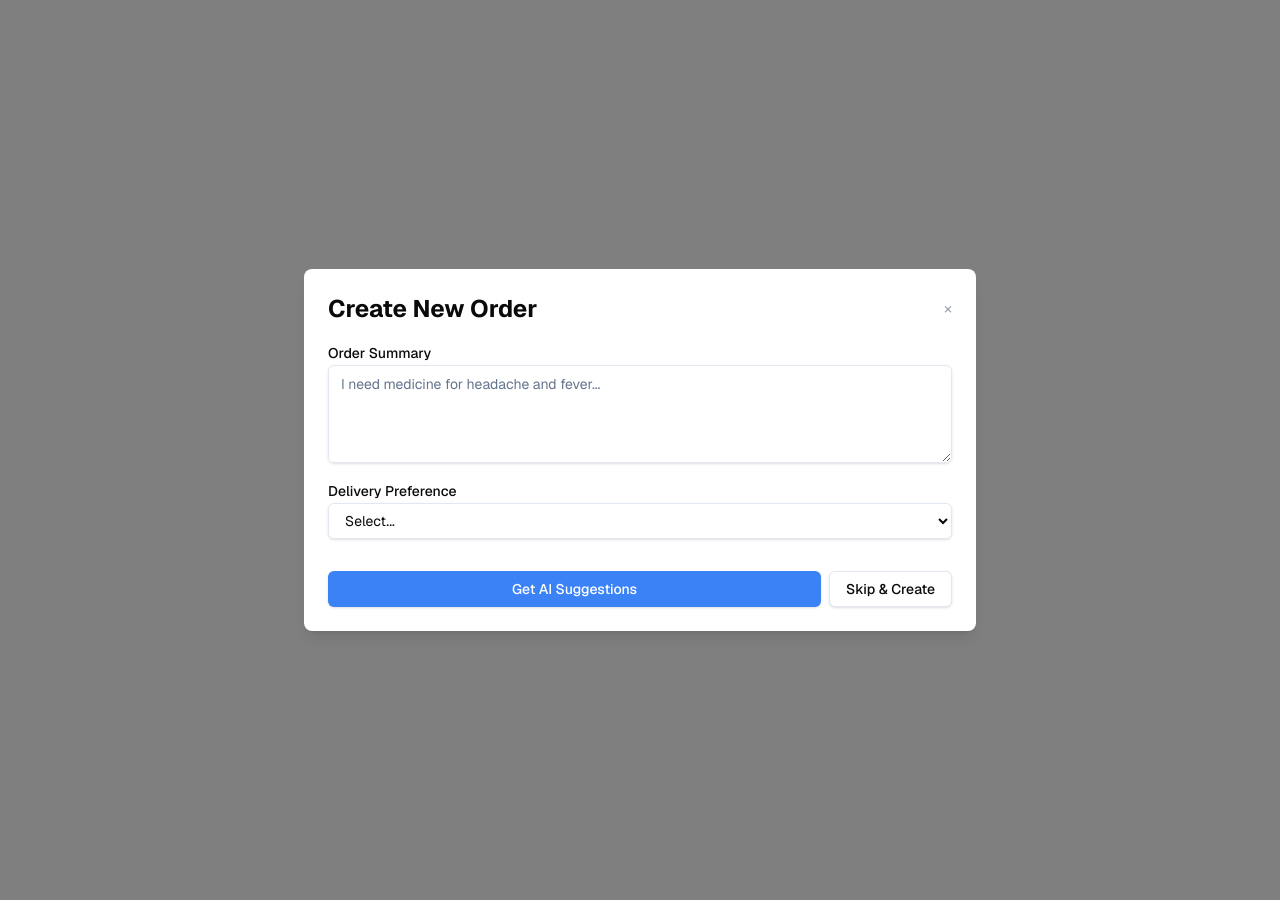
Test case: Summary Consistency - CreateOrderDialog › should accept valid summary with 10+ characters
In the text box labelled "Order Summary": (640, 414) [328,365,952,463], type "I need medicine for headache and fever"
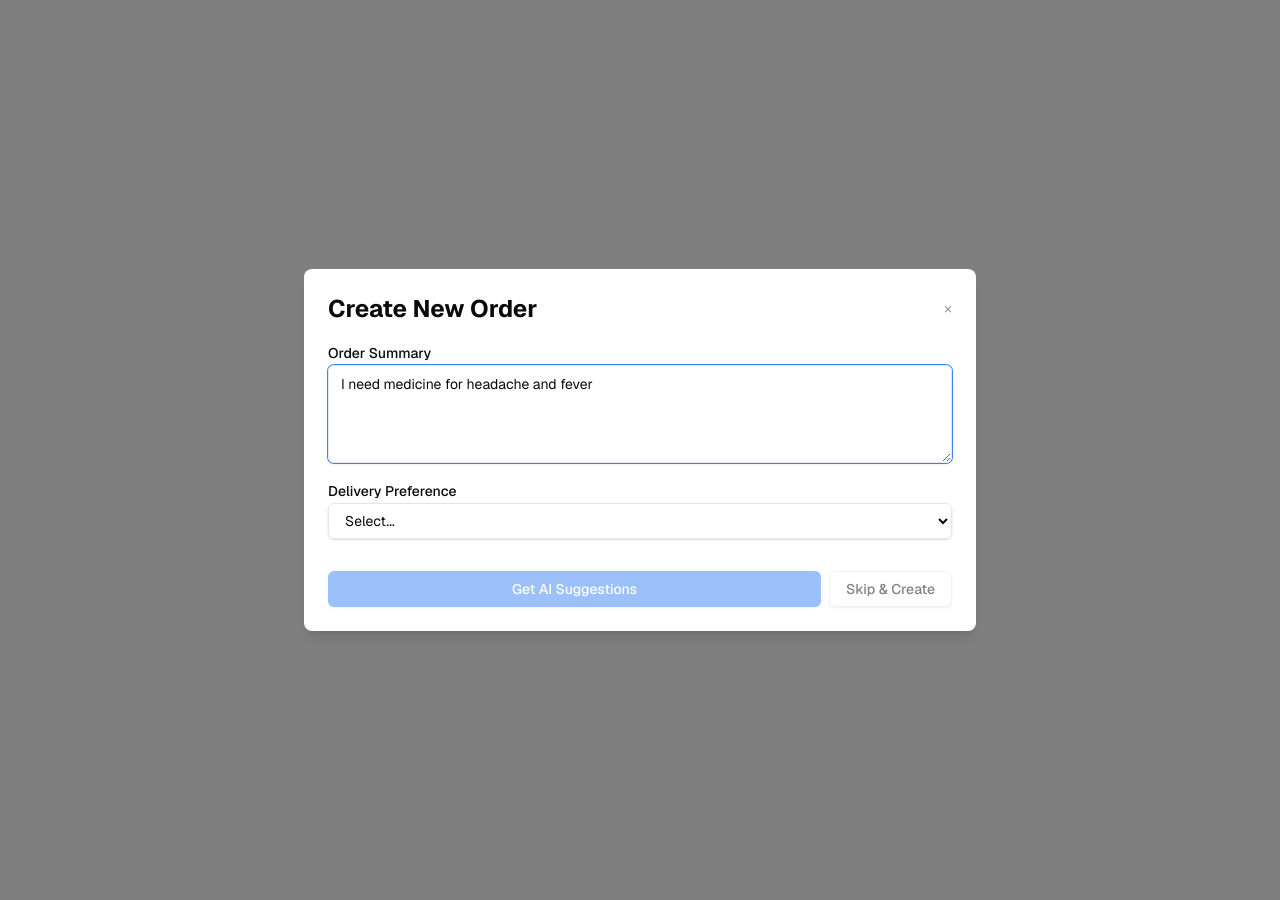
Select "In-Store Pickup" in the dropdown labelled "Delivery Preference": (640, 521) [328,503,952,539]
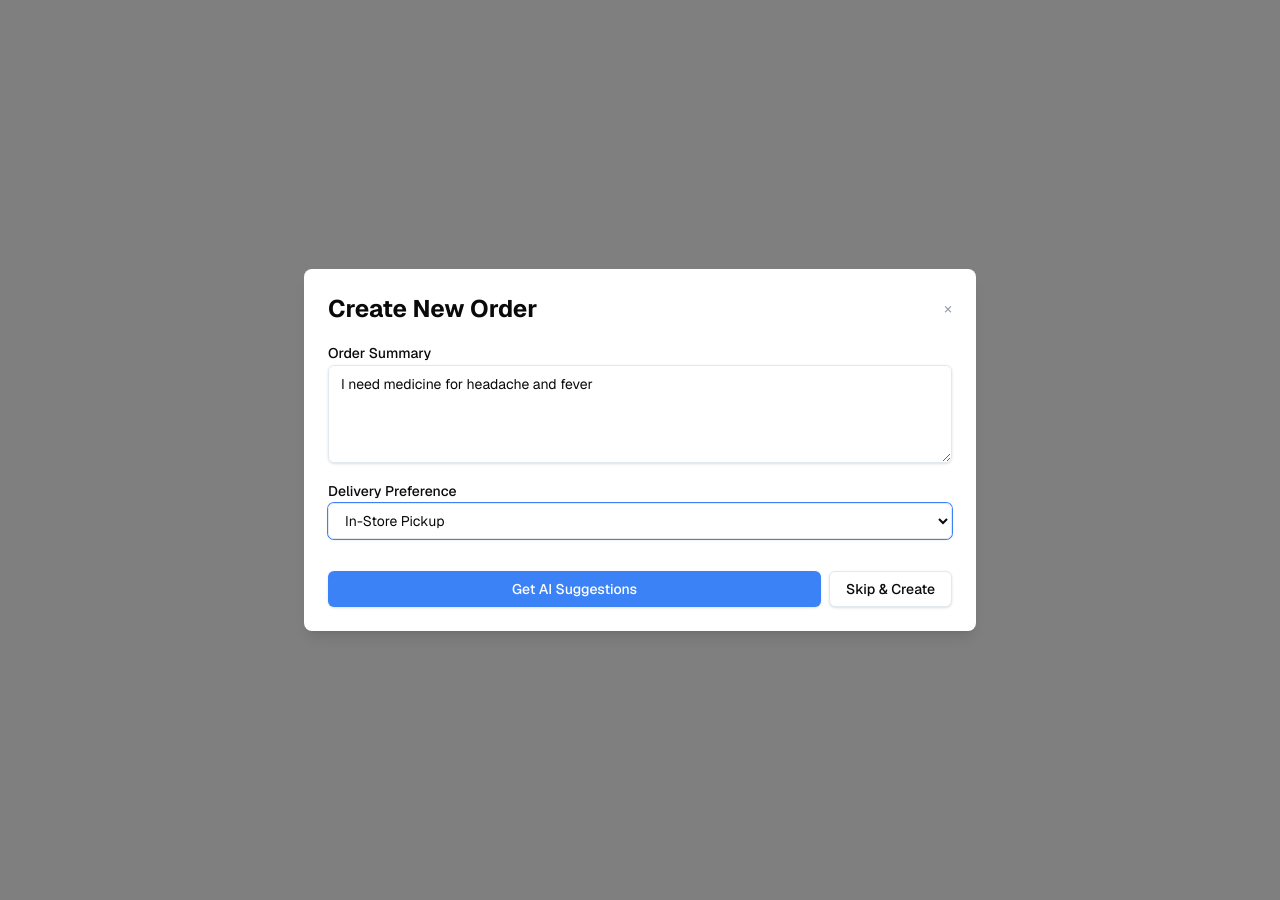
Expected: the button "Get AI Suggestions" is enabled, [328,571,821,607]
